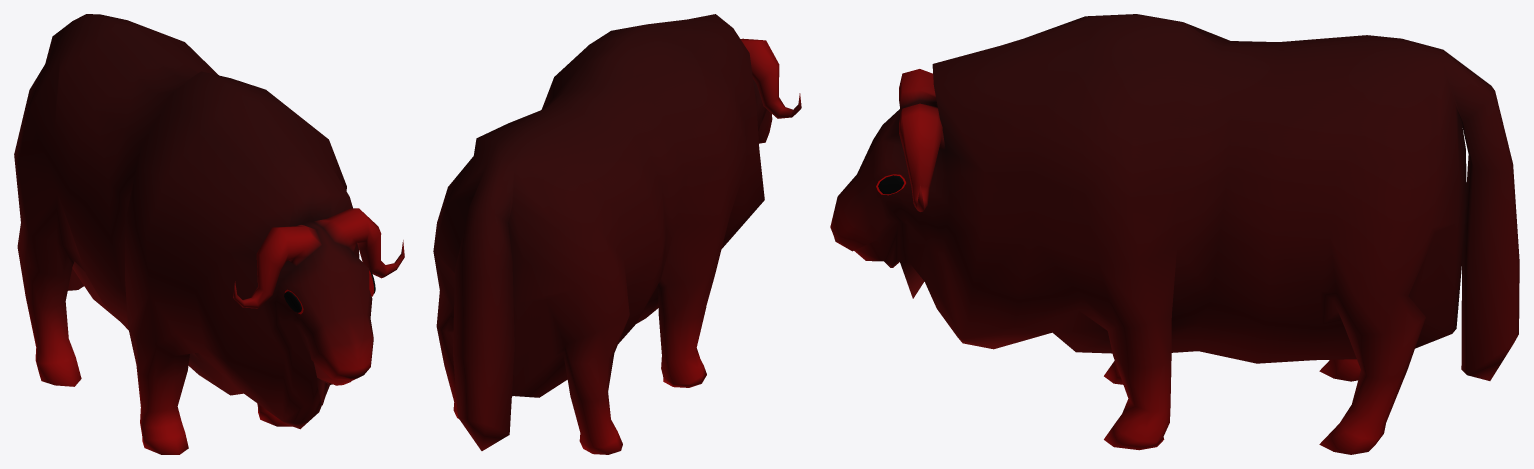
File: Animals_Muskox.fbx
3 views of the same model, side by side, from view 1: azimuth 30°, elevation 25°; view 2: azimuth 150°, elevation 25°; view 3: azimuth 270°, elevation 25° (orthographic). The views are drawn at different scales.
Visible parts, largest first — view 1: base; view 2: base; view 3: base.
Part boxes in pixels (x1,y1,x2,y2): base: (14, 14, 404, 454); base: (433, 14, 801, 454); base: (830, 14, 1519, 454).
Bounding box in the file's own units: 128 × 212 × 339.
